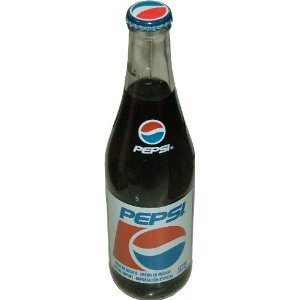pepsi: (131, 226, 185, 270), (126, 0, 168, 21), (137, 117, 165, 143)
